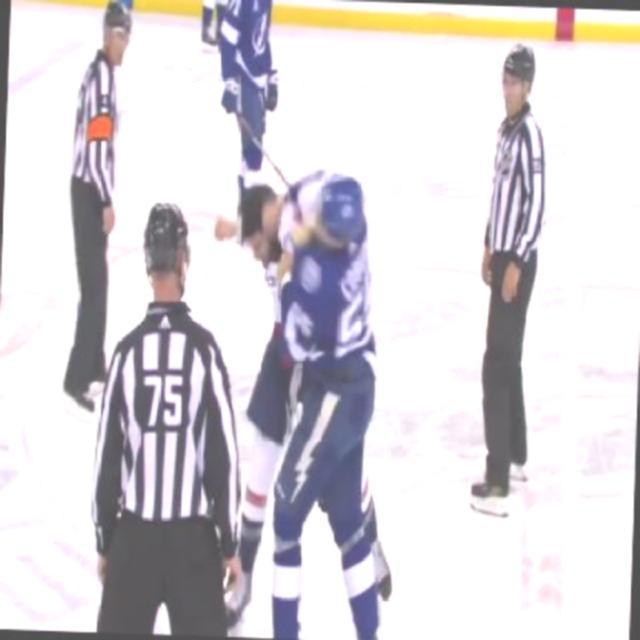fight: (197, 160, 414, 638)
non-fight: (88, 196, 258, 636), (470, 40, 546, 522), (59, 2, 132, 421)
